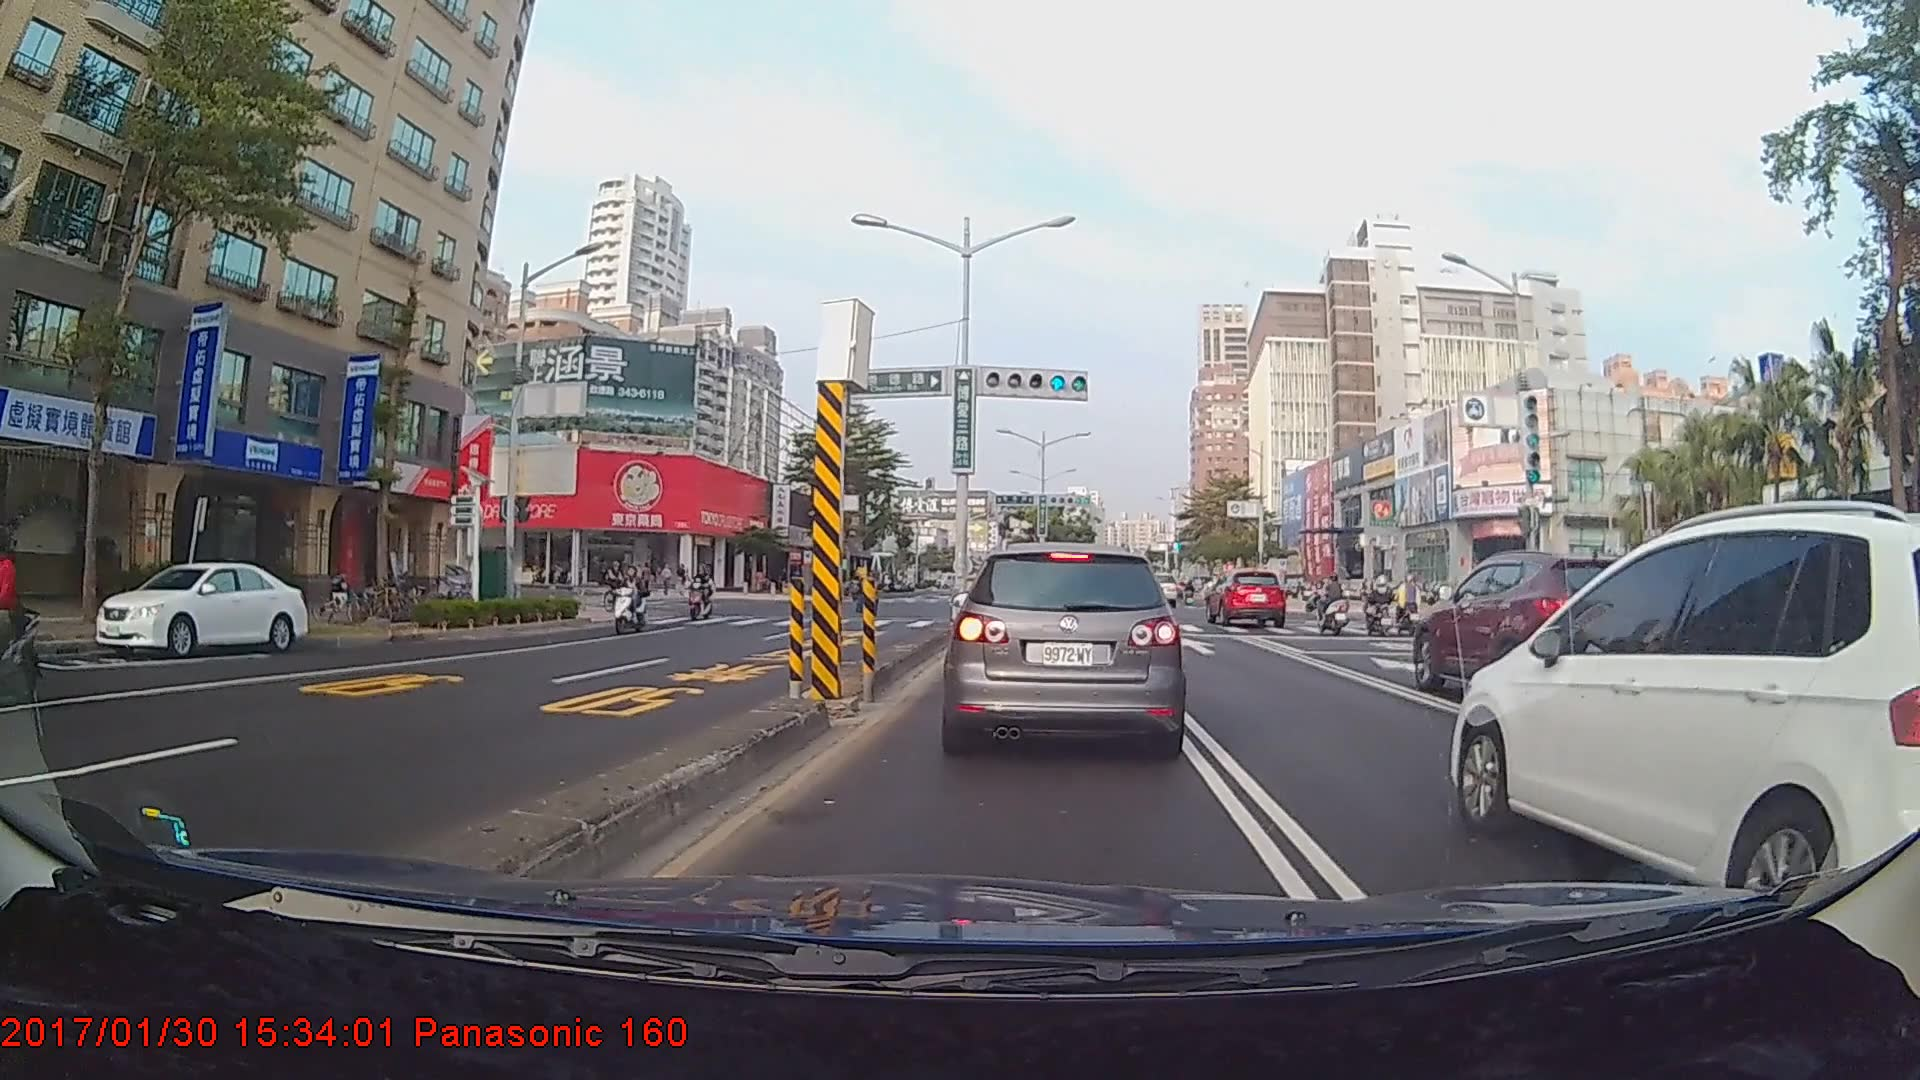rider: (608, 564, 654, 642), (1309, 572, 1360, 636), (1356, 574, 1405, 638), (603, 557, 638, 622), (690, 568, 722, 626)
vehicle: (1446, 498, 1920, 884), (946, 540, 1187, 754), (1412, 550, 1684, 705), (94, 561, 306, 659), (1207, 568, 1287, 626), (1140, 569, 1177, 606)
